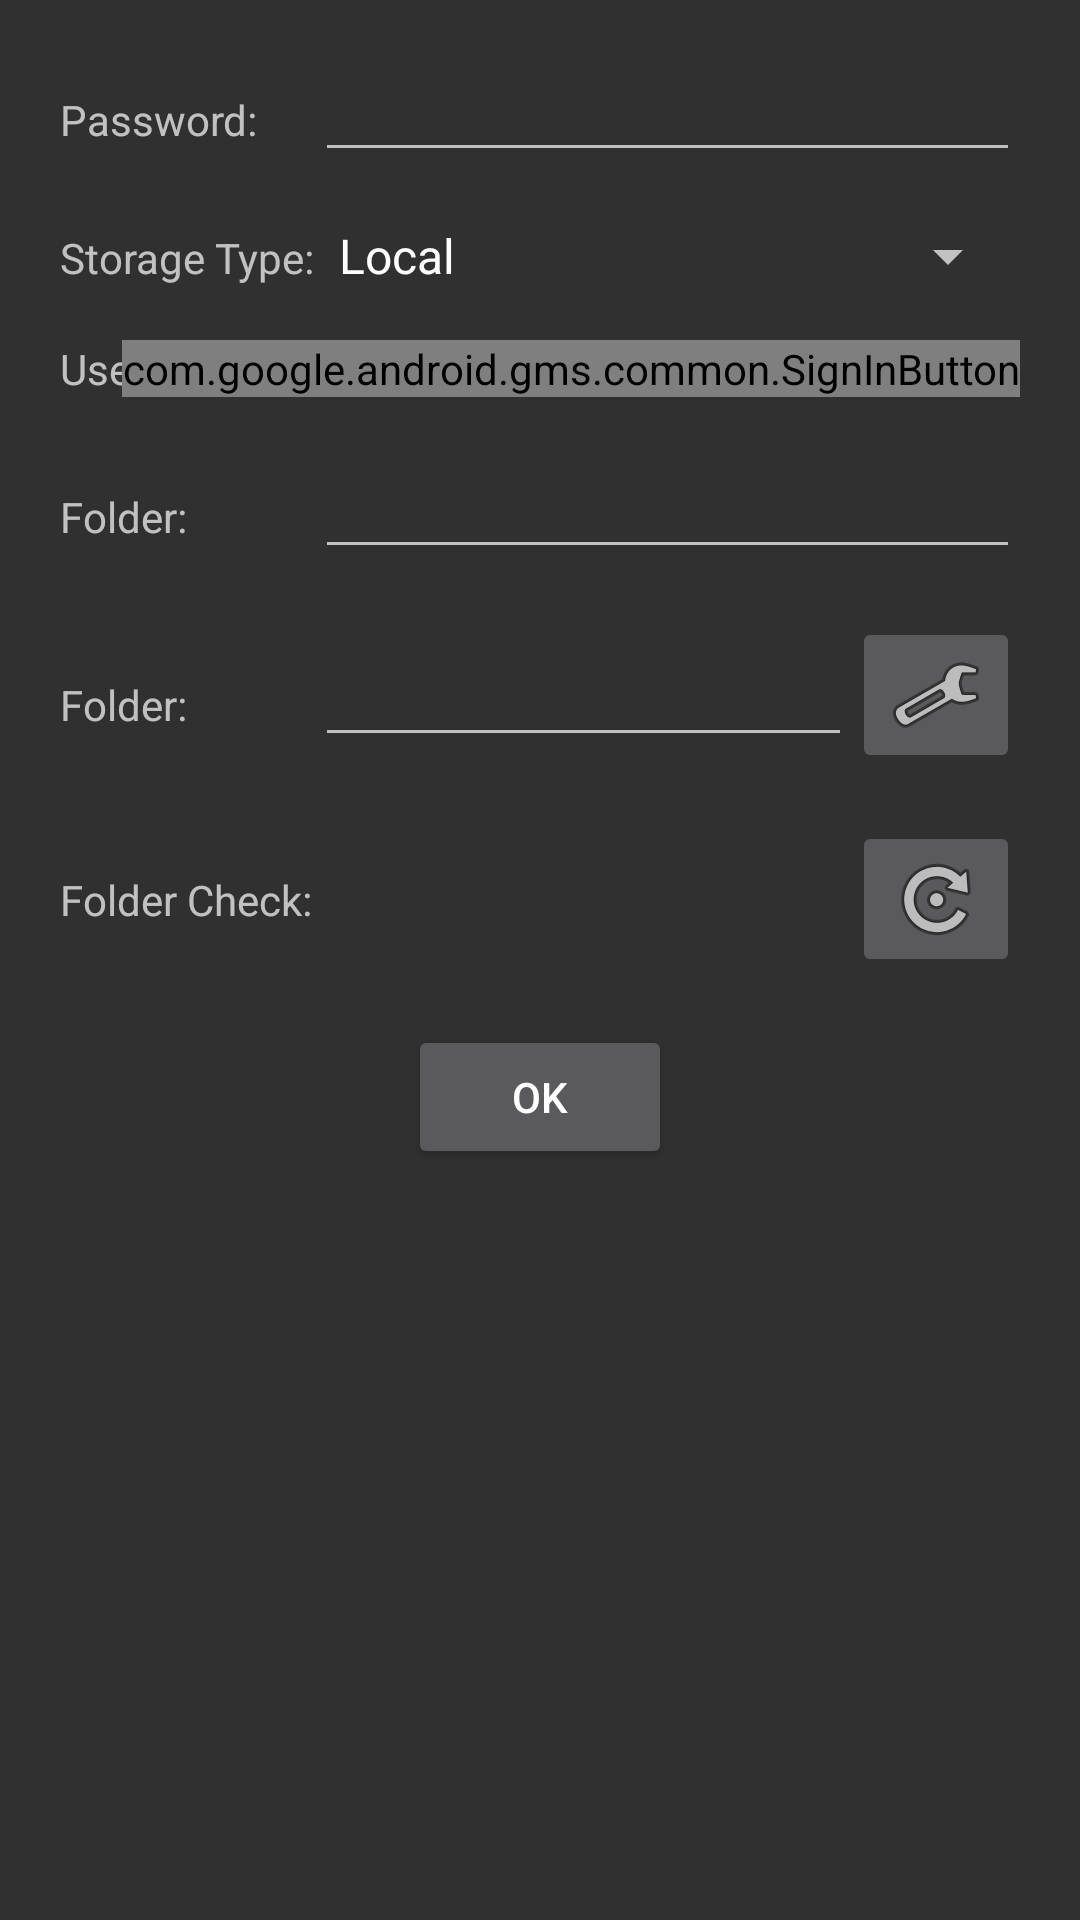

Locate icon controls on the screen. Image size 1080×1920, boxes as (x1, y1, x2, y2).
Run Folder Check: (864, 839, 1008, 959)
